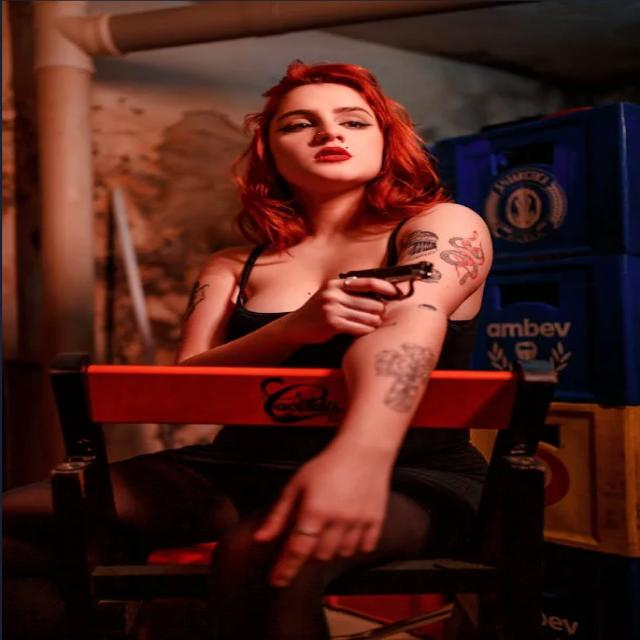Edited images: (147, 41, 547, 625)
